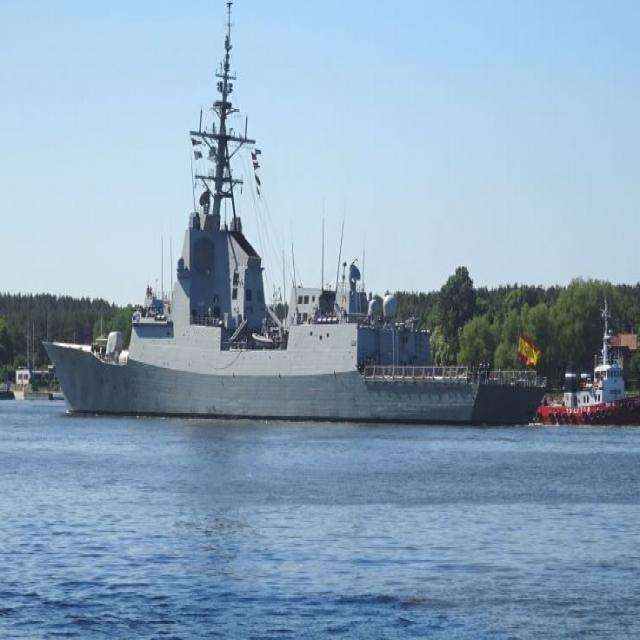Fragata: (32, 1, 544, 424)
